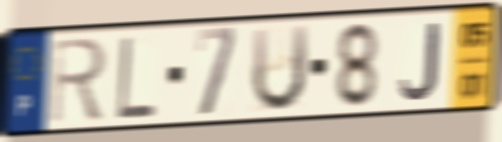7: (193, 24, 238, 122)
8: (334, 20, 382, 110)
J: (397, 20, 441, 103)
L: (115, 33, 158, 120)
R: (47, 34, 110, 127)
U: (248, 21, 312, 116)
